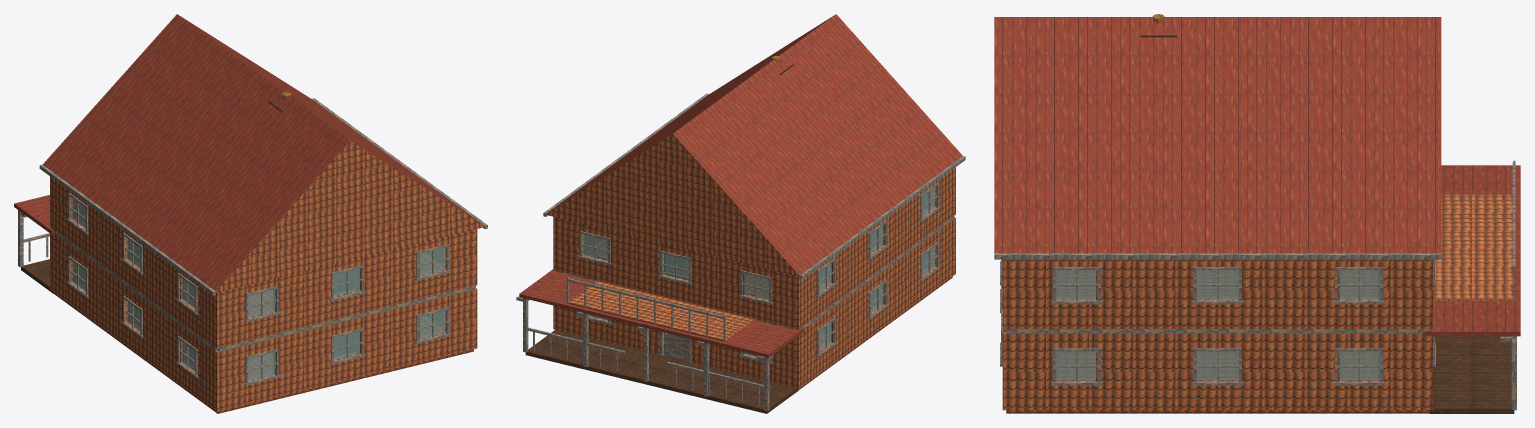
The model's file is alpine-timber.gltf.
The picture shows the model from 3 angles, left to right: view 1: azimuth 30°, elevation 25°; view 2: azimuth 150°, elevation 25°; view 3: azimuth 270°, elevation 25°; orthographic projection. The views are drawn at different scales.
Parts seen in each view (by area): view 1: roof-L1-brown-shingle, exterior-L0-wood, exterior-L1-wood, roof-L1-wood, trim-L0-dark-wood, trim-L1-dark-wood, glazing-L1-glass, glazing-L0-glass, roof-L1-dark-wood, exterior-L0-dark-wood, floor-L0-floor, porch-L0-brown-shingle (+5 smaller); view 2: roof-L1-brown-shingle, exterior-L1-wood, roof-L1-wood, exterior-L0-wood, porch-L0-stone, balcony-L1-wood, porch-L0-brown-shingle, porch-L0-dark-wood, trim-L1-dark-wood, glazing-L1-glass, roof-L1-dark-wood, trim-L0-dark-wood (+5 smaller); view 3: roof-L1-brown-shingle, exterior-L0-wood, exterior-L1-wood, balcony-L1-wood, porch-L0-brown-shingle, porch-L0-stone, floor-L0-floor, glazing-L0-glass, glazing-L1-glass, roof-L1-dark-wood, trim-L0-dark-wood, trim-L1-dark-wood (+4 smaller).
Part boxes in pixels (<box>): roof-L1-brown-shingle: <box>43,14,482,290</box>; exterior-L0-wood: <box>50,233,477,411</box>; exterior-L1-wood: <box>50,176,477,348</box>; roof-L1-wood: <box>216,141,484,292</box>; trim-L0-dark-wood: <box>67,256,450,385</box>; trim-L1-dark-wood: <box>67,192,450,322</box>; glazing-L1-glass: <box>72,198,445,317</box>; glazing-L0-glass: <box>72,262,445,380</box>; roof-L1-dark-wood: <box>39,98,487,295</box>; exterior-L0-dark-wood: <box>51,228,475,351</box>; floor-L0-floor: <box>53,284,473,413</box>; porch-L0-brown-shingle: <box>14,195,53,234</box>; roof-L1-brown-shingle: <box>547,14,962,275</box>; exterior-L1-wood: <box>553,167,955,329</box>; roof-L1-wood: <box>545,134,799,276</box>; exterior-L0-wood: <box>553,217,955,388</box>; porch-L0-stone: <box>525,330,797,413</box>; balcony-L1-wood: <box>568,280,754,341</box>; porch-L0-brown-shingle: <box>519,269,804,357</box>; porch-L0-dark-wood: <box>516,296,773,411</box>; trim-L1-dark-wood: <box>578,182,939,304</box>; glazing-L1-glass: <box>583,188,934,299</box>; roof-L1-dark-wood: <box>543,93,965,279</box>; trim-L0-dark-wood: <box>578,242,939,364</box>; roof-L1-brown-shingle: <box>994,17,1441,253</box>; exterior-L0-wood: <box>1002,332,1432,410</box>; exterior-L1-wood: <box>1002,259,1432,328</box>; balcony-L1-wood: <box>1433,194,1513,300</box>; porch-L0-brown-shingle: <box>1423,165,1520,336</box>; porch-L0-stone: <box>1429,336,1514,413</box>; floor-L0-floor: <box>1006,352,1429,413</box>; glazing-L0-glass: <box>1055,351,1380,380</box>; glazing-L1-glass: <box>1055,270,1380,298</box>; roof-L1-dark-wood: <box>994,253,1441,259</box>; trim-L0-dark-wood: <box>1000,285,1435,385</box>; trim-L1-dark-wood: <box>1000,259,1435,304</box>.
Size of the model in its own units: 9.66 by 8.26 by 12.43.
10 materials, 9 textured.
